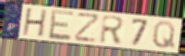7: (130, 18, 150, 47)
E: (47, 9, 76, 42)
H: (21, 8, 49, 39)
Q: (152, 20, 177, 50)
R: (99, 14, 126, 45)
Z: (74, 13, 102, 44)
